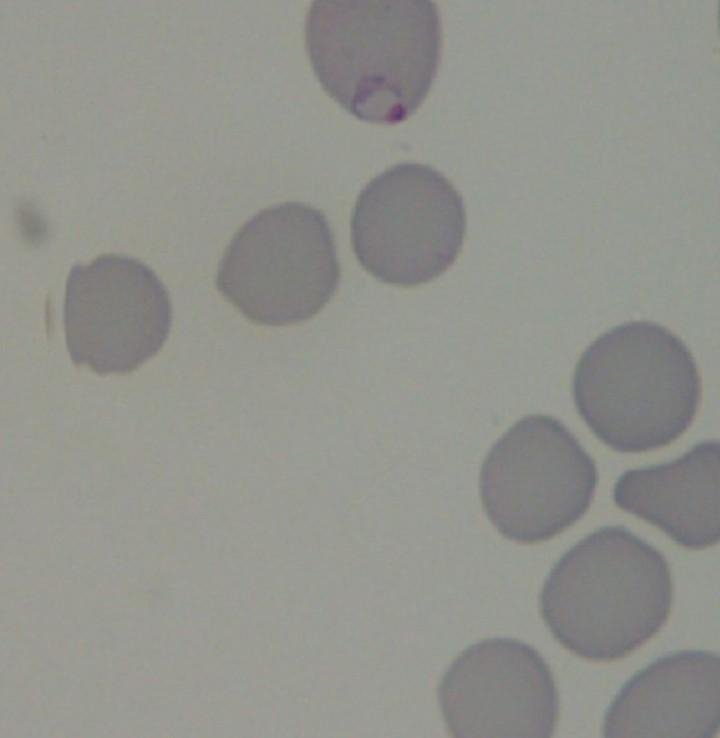Infected: (276, 607, 415, 738)
Uninfected: (46, 77, 179, 215), (18, 283, 148, 416), (384, 407, 507, 542), (128, 191, 241, 320), (252, 449, 371, 570), (548, 361, 657, 483), (0, 183, 107, 302), (160, 0, 277, 106), (0, 0, 120, 87)
